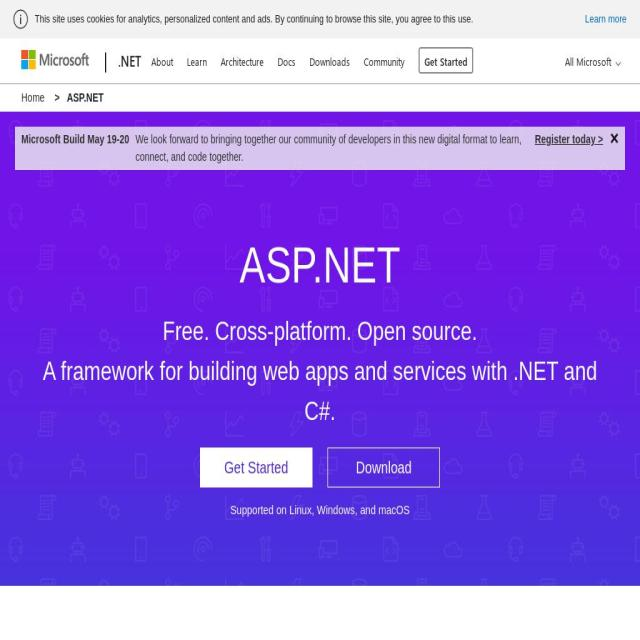button: (200, 447, 312, 488), (328, 447, 440, 488), (555, 38, 624, 84), (215, 39, 269, 80), (304, 39, 356, 80), (358, 39, 410, 80), (112, 38, 145, 84), (419, 47, 473, 73), (146, 39, 178, 80), (182, 39, 212, 80), (272, 39, 301, 80), (585, 8, 627, 30), (29, 639, 317, 640), (323, 639, 611, 640), (609, 128, 619, 148)
heading: (32, 234, 608, 294)
image: (13, 8, 29, 30)
link: (534, 132, 604, 146), (22, 90, 44, 104)
text: (42, 355, 597, 426), (135, 130, 529, 166), (32, 500, 608, 519), (163, 315, 478, 346), (34, 12, 473, 25), (21, 130, 130, 166), (44, 88, 104, 107), (565, 54, 611, 68), (118, 49, 141, 73)
